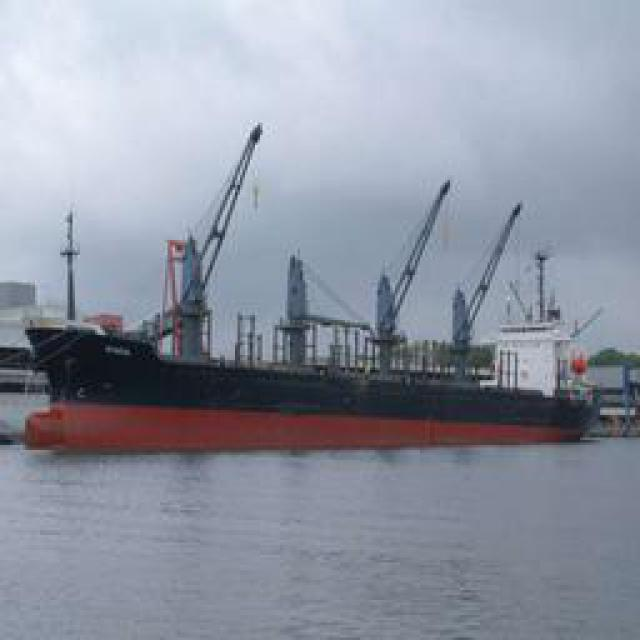Ship: (9, 147, 609, 440)
